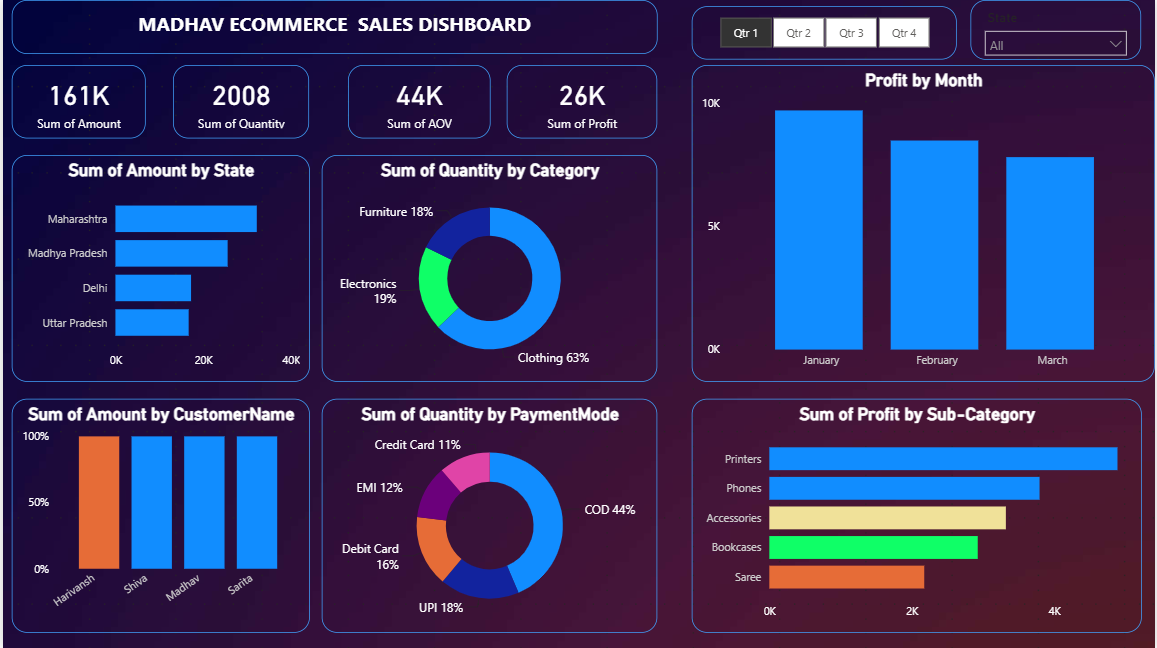

What the dashboard file says about the page in this screenshot:
{"tool":"powerbi","page":{"name":"Page 1","canvas":[1280,720],"ordinal":0},"visuals":[{"type":"textbox","box":[9.8,0,717.5,60.3],"z":0},{"type":"columnChart","title":"Profit by Month","fields":{"Category":["Orders.Order Date.Variation.Date Hierarchy.Month"],"Y":["Sum(Details.Profit)"]},"box":[765.5,72.6,514.5,352],"z":1000},{"type":"barChart","fields":{"Category":["Details.Sub-Category"],"Y":["Sum(Details.Profit)"]},"box":[765.5,443.1,499.7,259.7],"z":2000},{"type":"donutChart","fields":{"Category":["Details.Category"],"Y":["Sum(Details.Quantity)"]},"box":[354.5,172.3,372.9,252.3],"z":3000},{"type":"donutChart","fields":{"Y":["Sum(Details.Quantity)"],"Category":["Details.PaymentMode"]},"box":[354.5,443.1,372.9,259.7],"z":4000},{"type":"card","fields":{"Values":["Sum(Details.Amount)"]},"box":[9.8,72.6,148.9,81.2],"z":5000},{"type":"card","fields":{"Values":["Sum(Details.Quantity)"]},"box":[189.5,72.6,151.4,81.2],"z":6000},{"type":"card","fields":{"Values":["Sum(Details.Profit)"]},"box":[560,72.6,167.4,81.2],"z":7000},{"type":"card","fields":{"Values":["Sum(Details.AOV)"]},"box":[382.8,72.6,158.8,81.2],"z":8000},{"type":"barChart","fields":{"Category":["Orders.State"],"Y":["Sum(Details.Amount)"]},"box":[9.8,172.3,331.1,252.3],"z":9000},{"type":"hundredPercentStackedColumnChart","fields":{"Category":["Orders.CustomerName"],"Y":["Sum(Details.Amount)"]},"box":[9.8,443.1,331.1,259.7],"z":10000},{"type":"slicer","fields":{"Values":["Orders.Order Date.Variation.Date Hierarchy.Quarter"]},"box":[765.5,7.4,294.2,59.1],"z":11000},{"type":"slicer","fields":{"Values":["Orders.State"]},"box":[1075.7,0,189.5,66.5],"z":12000}]}

Visuals, with their boxes in screenshot pixels (x1, y1, x2, y2), scaled from the page's 1280x720 canvas onto the 1157x648 screenshot:
textbox: left=9, top=0, right=657, bottom=54
"Profit by Month" columnChart: left=692, top=65, right=1156, bottom=382
barChart - Details.Sub-Category x Sum(Details.Profit): left=692, top=399, right=1144, bottom=633
donutChart - Details.Category x Sum(Details.Quantity): left=320, top=155, right=658, bottom=382
donutChart - Sum(Details.Quantity) x Details.PaymentMode: left=320, top=399, right=658, bottom=633
card - Sum(Details.Amount): left=9, top=65, right=143, bottom=138
card - Sum(Details.Quantity): left=171, top=65, right=308, bottom=138
card - Sum(Details.Profit): left=506, top=65, right=658, bottom=138
card - Sum(Details.AOV): left=346, top=65, right=490, bottom=138
barChart - Orders.State x Sum(Details.Amount): left=9, top=155, right=308, bottom=382
hundredPercentStackedColumnChart - Orders.CustomerName x Sum(Details.Amount): left=9, top=399, right=308, bottom=633
slicer - Orders.Order Date.Variation.Date Hierarchy.Quarter: left=692, top=7, right=958, bottom=60
slicer - Orders.State: left=972, top=0, right=1144, bottom=60
